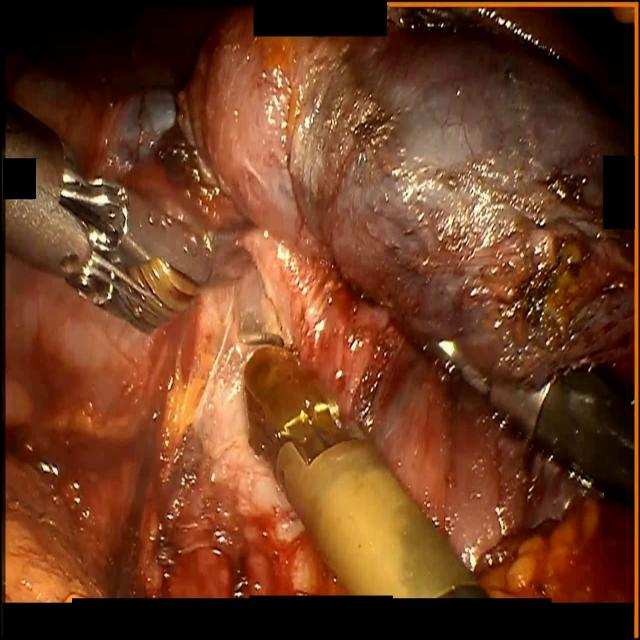surgical-area: (4, 0, 639, 601)
surgical-tool: (242, 345, 489, 595), (6, 101, 241, 341)
